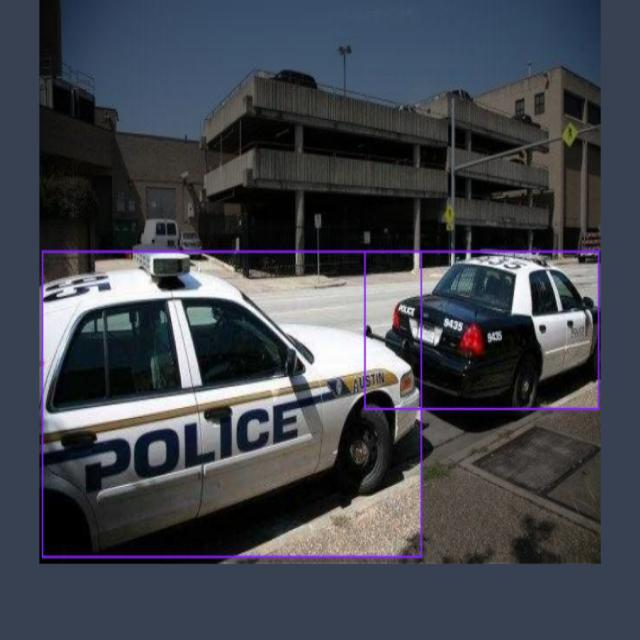police_car: (45, 256, 422, 554), (372, 249, 592, 411)
